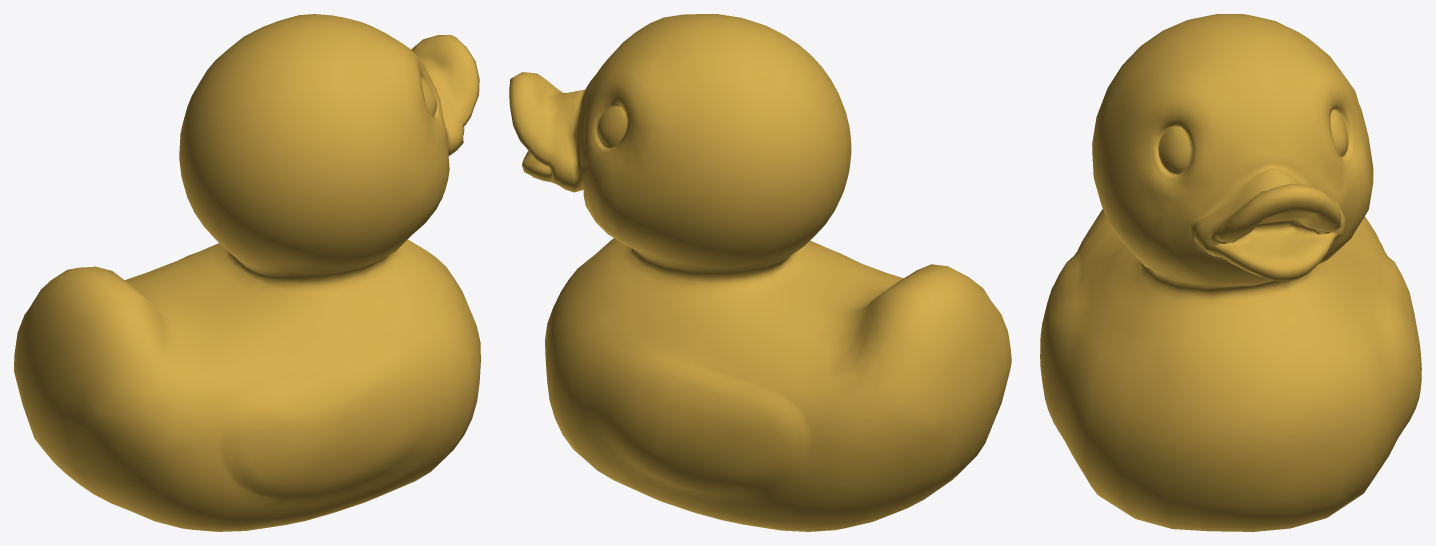
Rendered from duck_Mat.dae.
The picture shows the model from 3 angles, left to right: view 1: azimuth 30°, elevation 25°; view 2: azimuth 150°, elevation 25°; view 3: azimuth 270°, elevation 25°; orthographic projection. The views are drawn at different scales.
Parts seen in each view (by area): view 1: LOD3sp; view 2: LOD3sp; view 3: LOD3sp.
Part boxes in pixels (x1,y1,x2,y2): LOD3sp: (14, 14, 480, 531); LOD3sp: (509, 14, 1011, 531); LOD3sp: (1040, 14, 1421, 531).
Bounding box in the file's own units: 1.65 × 1.15 × 1.54.
